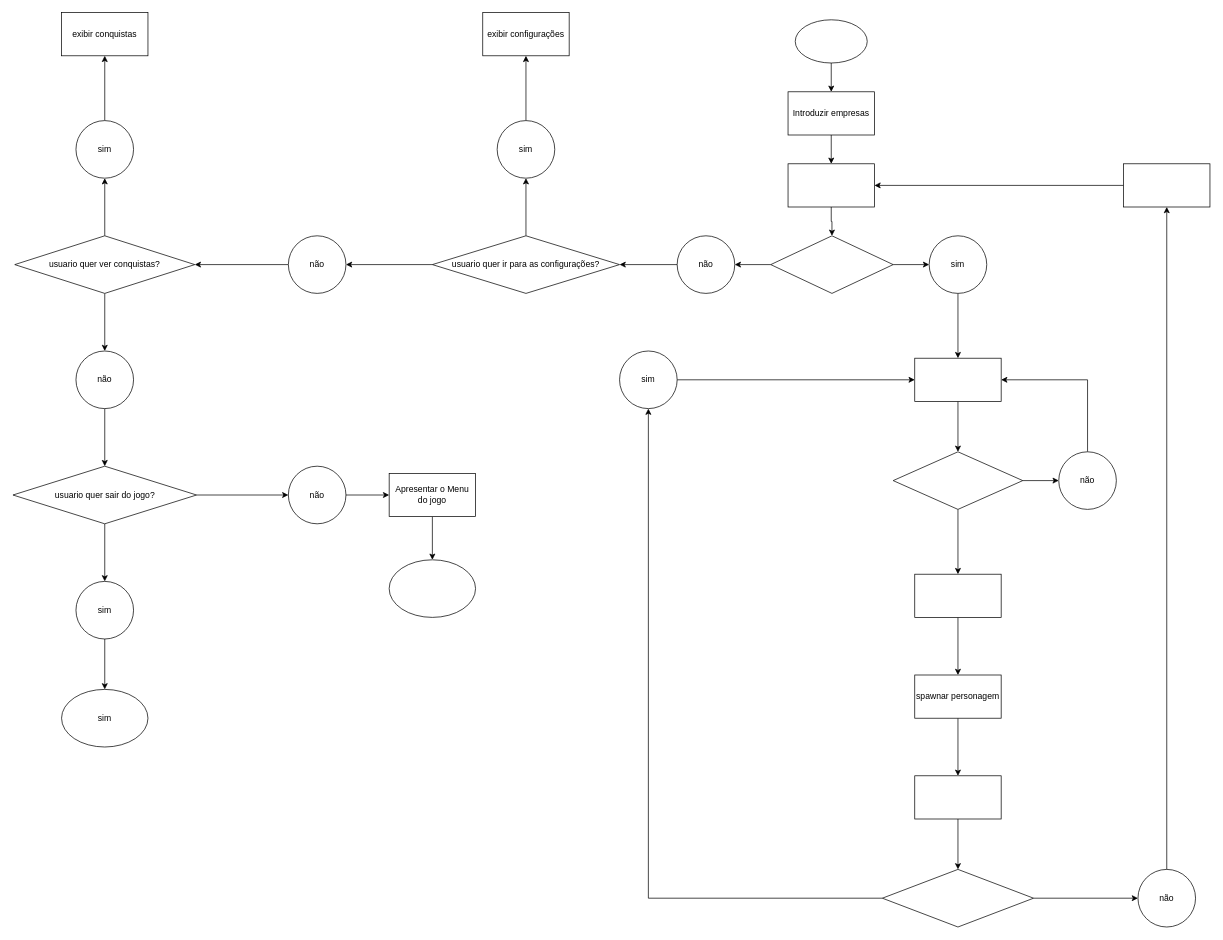
This 1223x940 diagram has some shape labels left out. The centre of each missing label's shape, as x and y in pixels:
"Apresentar o Menu principal" goes at (x=830, y=185).
"começar cutsene" goes at (x=957, y=595).
"fim" goes at (x=432, y=588).
"fim da partida/jogo" goes at (x=957, y=797).
"inicio" goes at (x=831, y=41).
"tela de carregamento" goes at (x=957, y=379).
"tela de resultados" goes at (x=1166, y=185).
"terminou de carregar?" goes at (x=957, y=480).
"Usuario quer iniciar o jogo?" goes at (x=831, y=264).
"usuario quer jogar denovo?" goes at (x=958, y=898).
